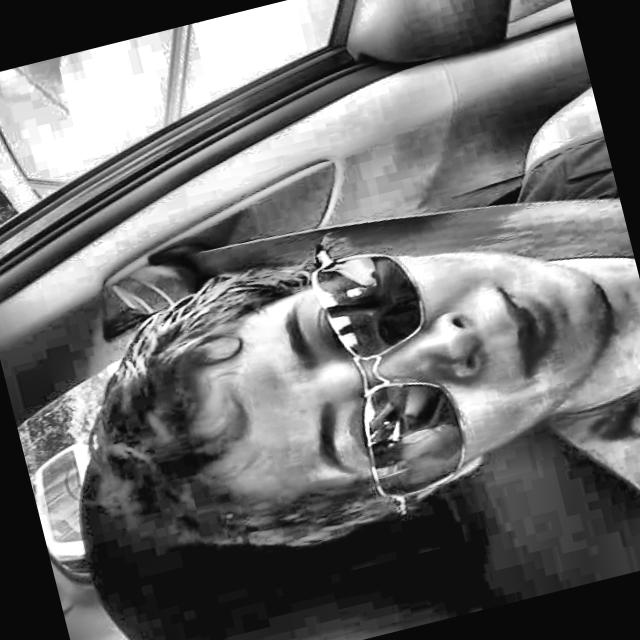closed_mouth: (488, 273, 591, 390)
